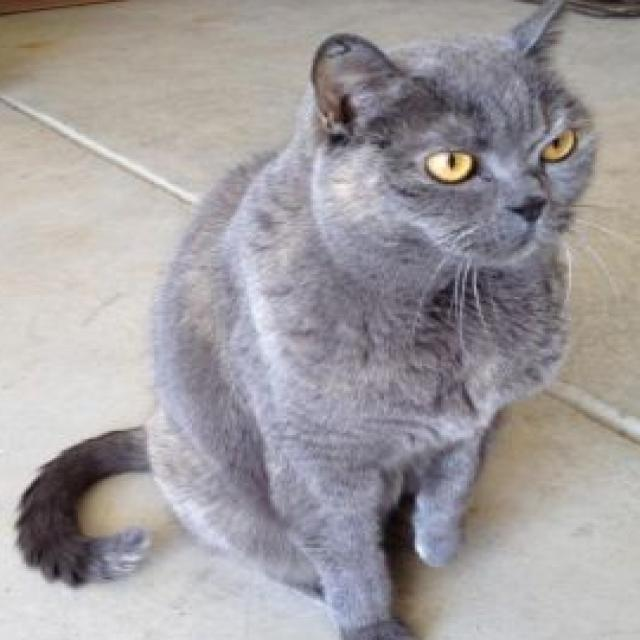British Shorthair: (7, 0, 602, 640)
